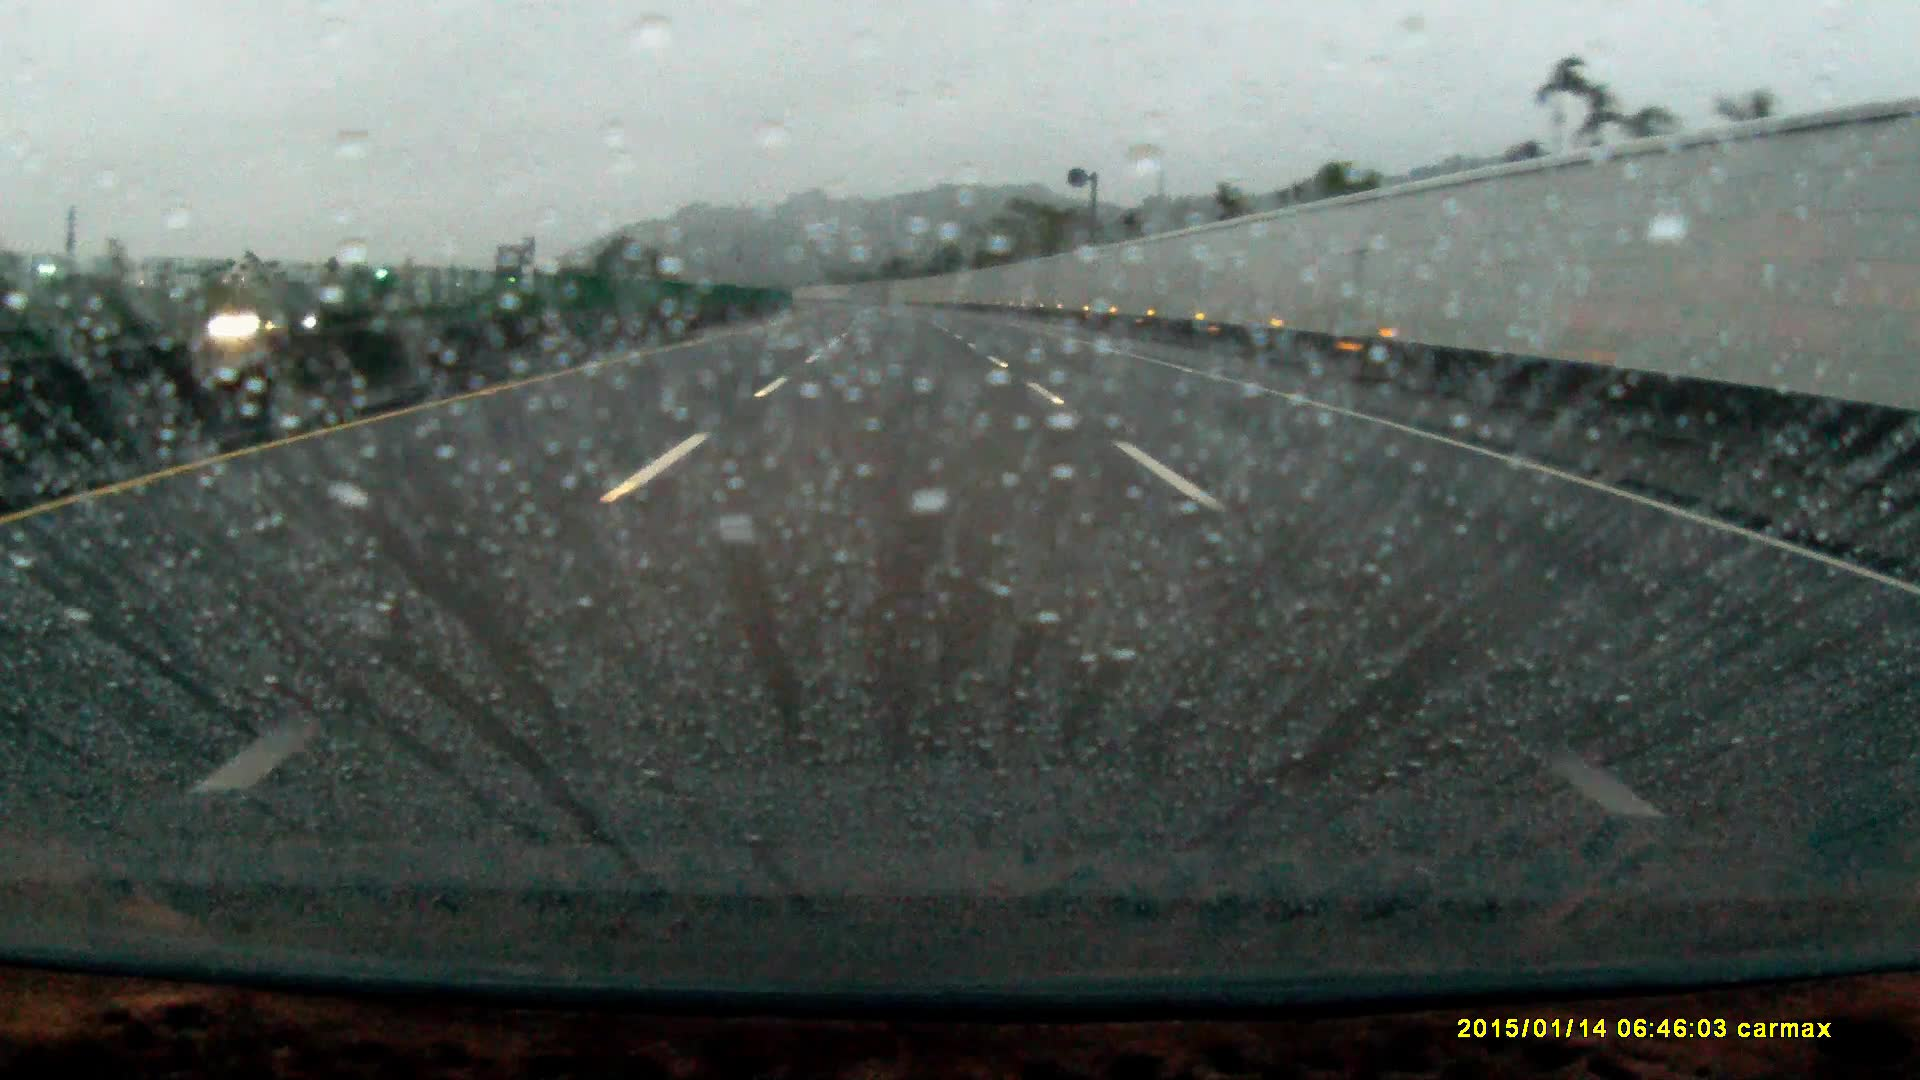vehicle: (204, 290, 320, 340)
